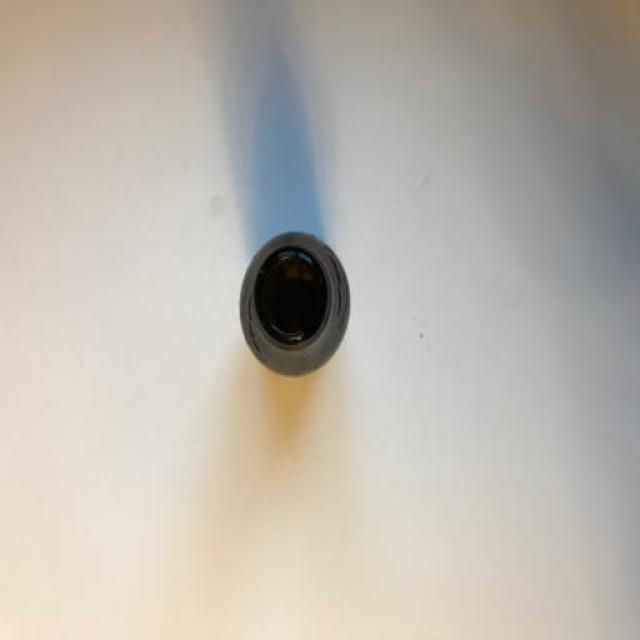glass: (216, 154, 390, 428)
